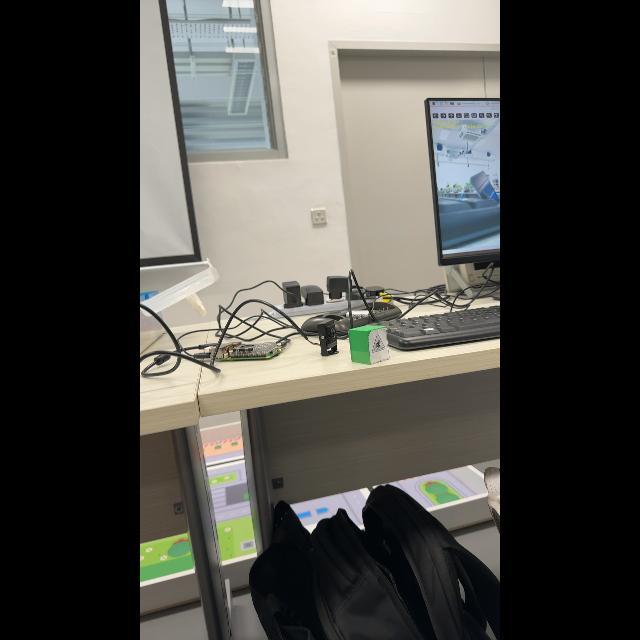Tsunami: (372, 333, 385, 353)
